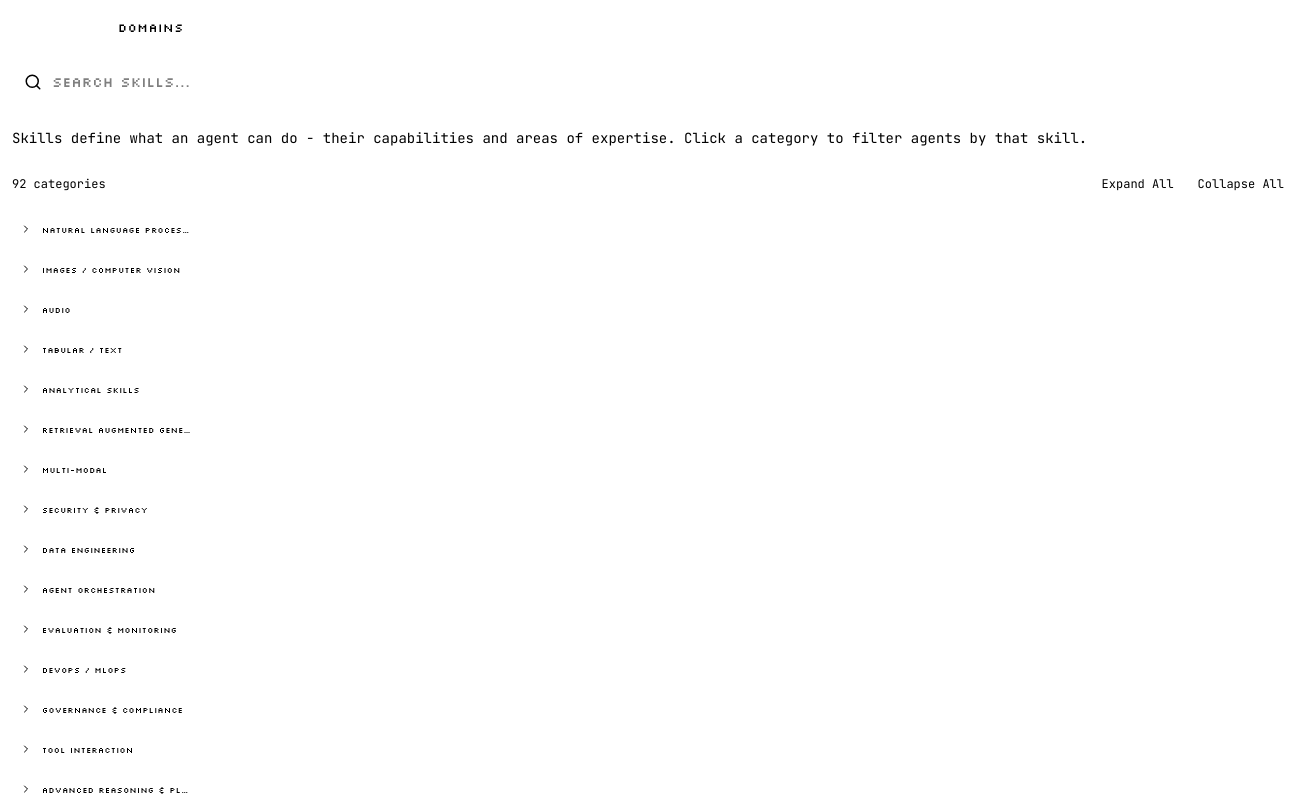
Test: TaxonomyBrowser › search functionality › updates search placeholder based on active tab
The width and height of the screenshot is (1304, 812).
Expected: the search field with placeholder "Search skills..." is shown, [12, 60, 1292, 104]
What coordinates should you click on to do the following:
click the tab with test id "tab-domain"
I would click on:
 (151, 28)
Its box is [102, 12, 200, 44].
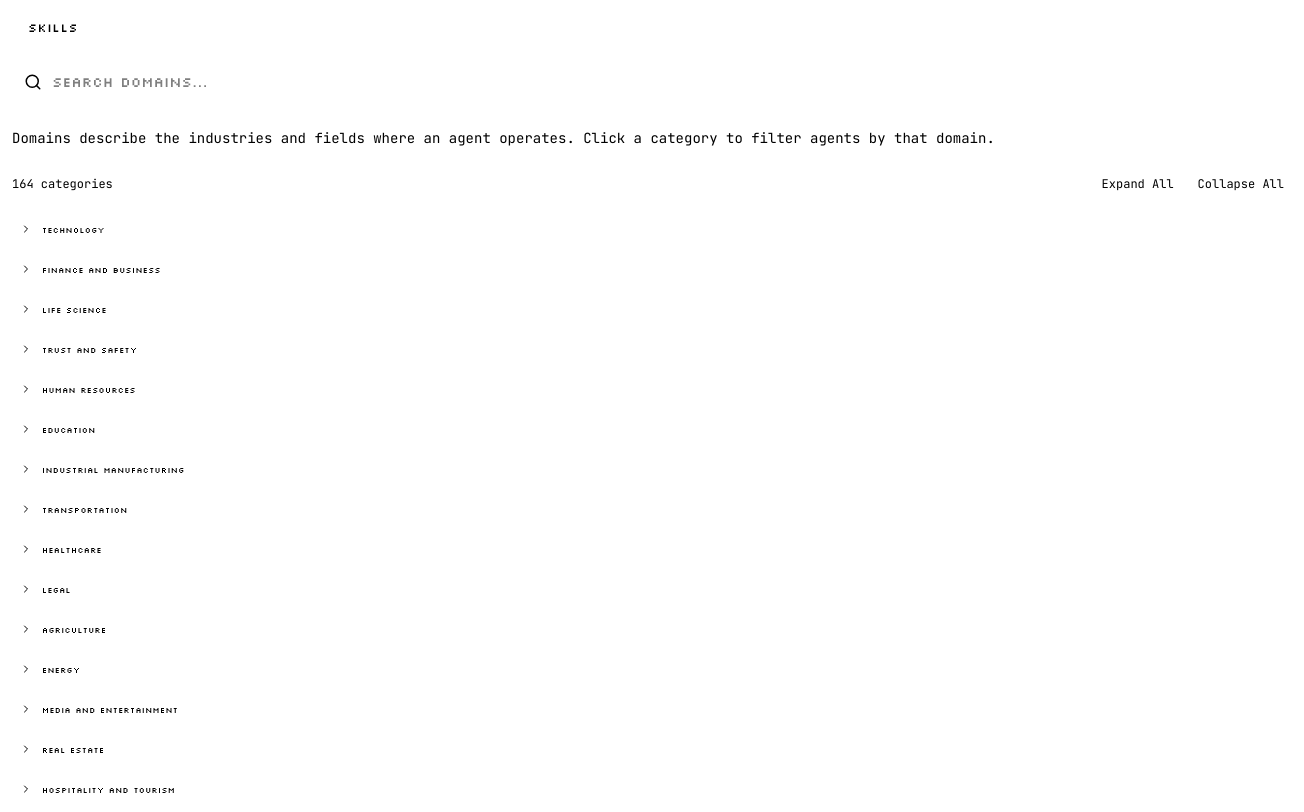
Result: the search field with placeholder "Search domains..." is shown at [12, 60, 1292, 104]
